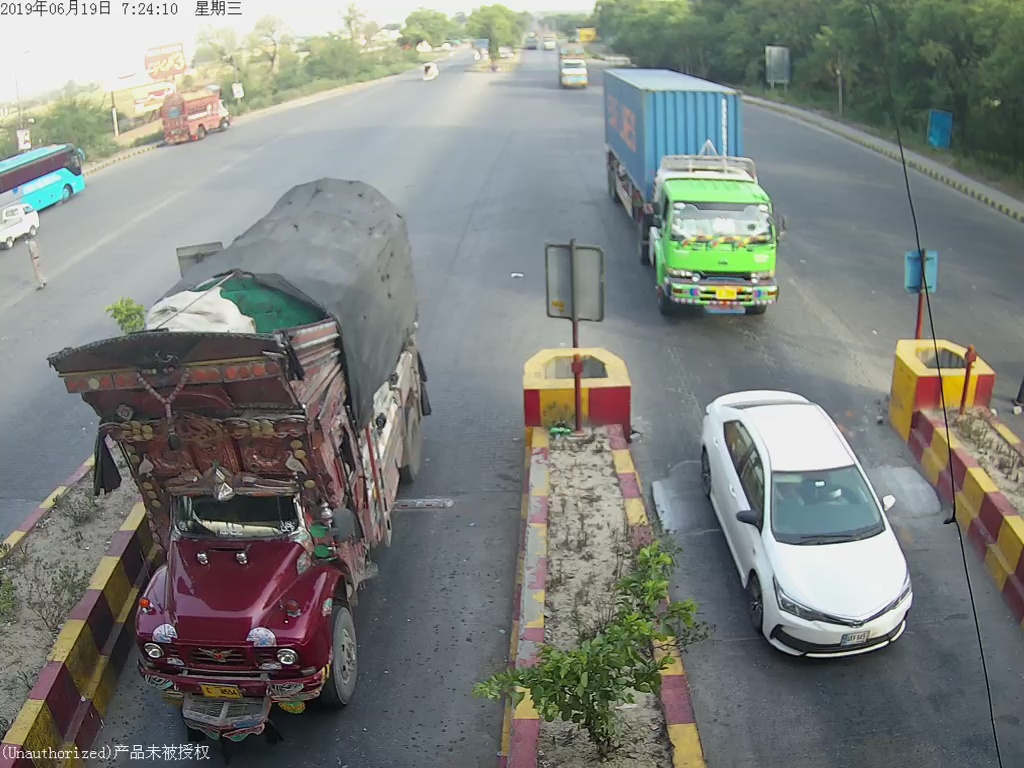Cat-1: (695, 381, 931, 672)
Cat-4: (54, 169, 440, 738)
Cat-5: (600, 69, 798, 333)
